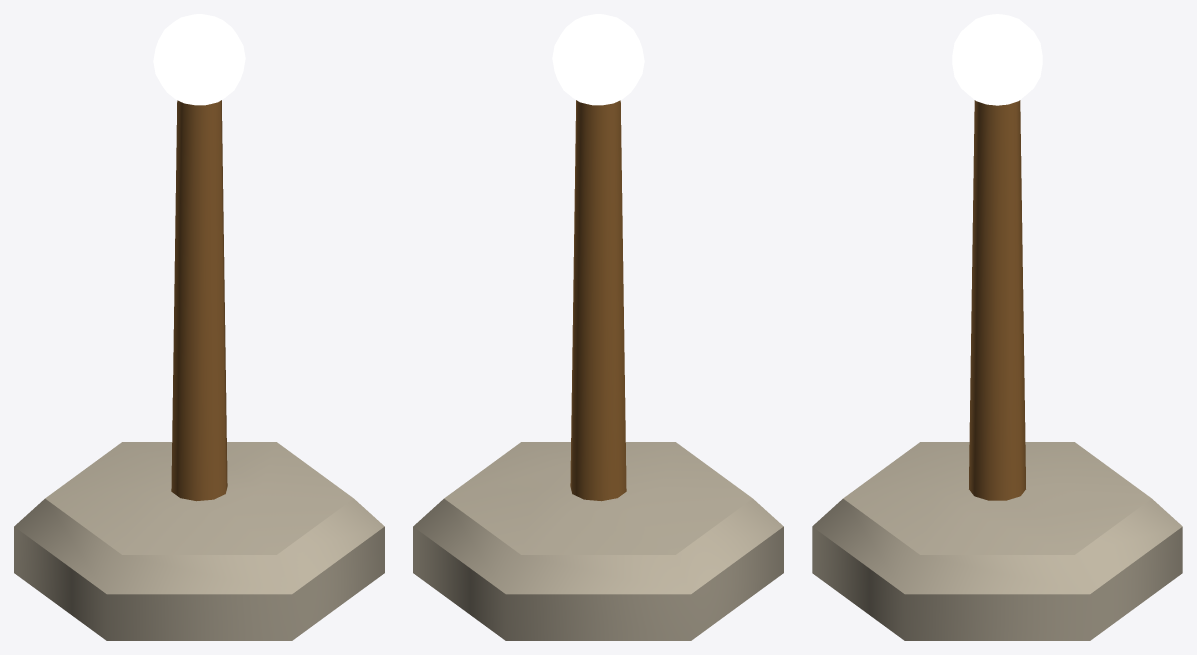
Rendered from probe.glb.
3 views of the same model, side by side, from view 1: azimuth 30°, elevation 25°; view 2: azimuth 150°, elevation 25°; view 3: azimuth 270°, elevation 25° (orthographic).
Visible parts, largest first — view 1: probe-plinth, probe-post, probe-lamp; view 2: probe-plinth, probe-post, probe-lamp; view 3: probe-plinth, probe-post, probe-lamp.
Boxes of the visible parts, x1,y1,x2,y2 form: probe-plinth: [14, 442, 384, 640]; probe-post: [171, 100, 227, 501]; probe-lamp: [153, 14, 245, 105]; probe-plinth: [413, 442, 783, 640]; probe-post: [570, 100, 626, 501]; probe-lamp: [552, 14, 644, 105]; probe-plinth: [812, 442, 1182, 640]; probe-post: [969, 100, 1025, 500]; probe-lamp: [952, 14, 1042, 105].
Size of the model in its own units: 0.3118 by 0.595 by 0.36.
